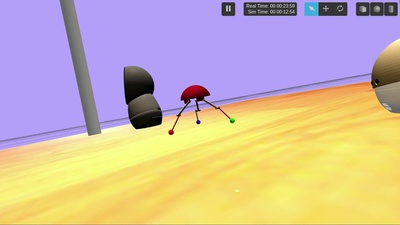mira_robot: (371, 37, 400, 113)
